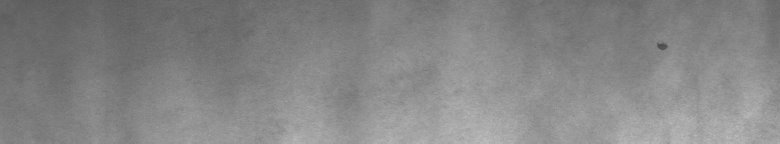fi: (655, 36, 668, 56)
